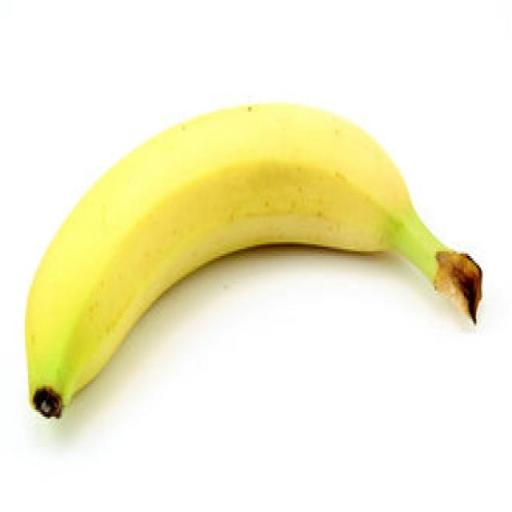fruit: (26, 104, 480, 416)
